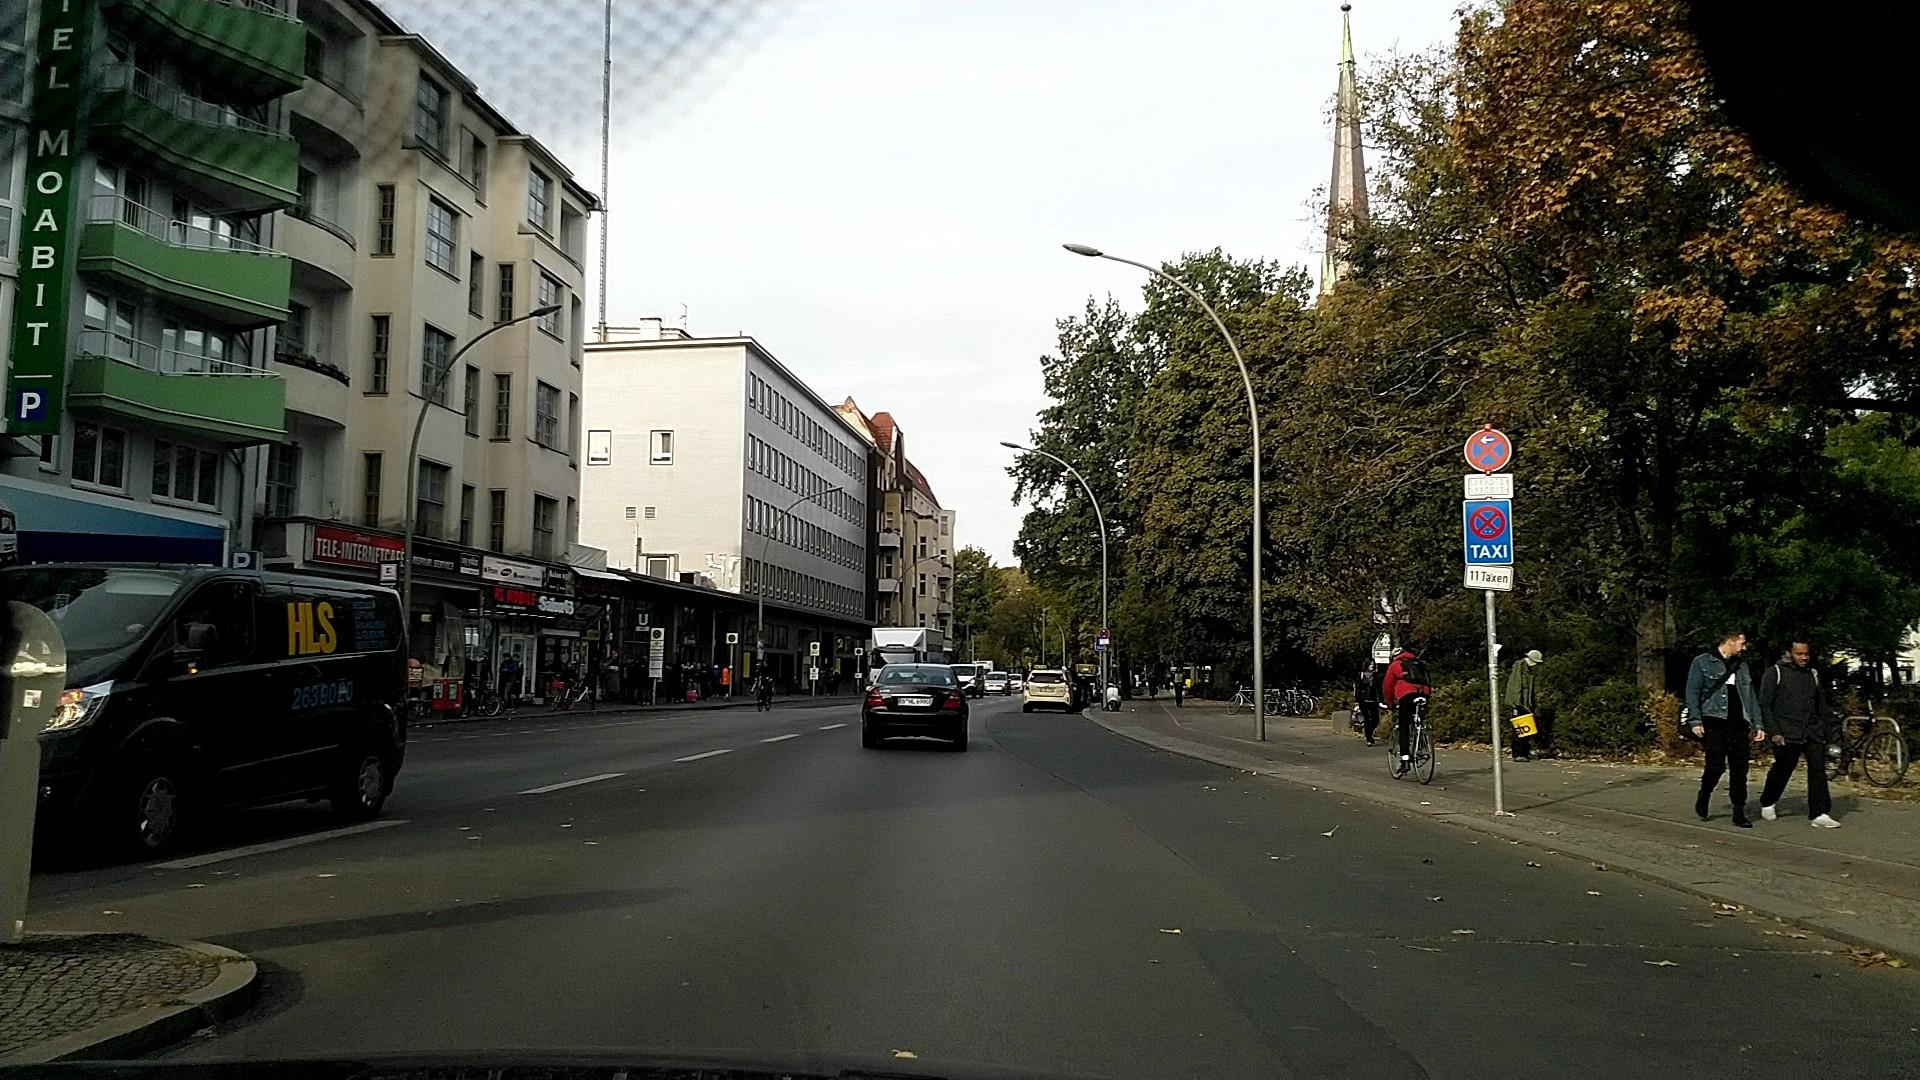Human face: (1788, 638, 1811, 668), (1725, 632, 1746, 658), (1366, 659, 1375, 671)
Vehicle registration plate: (897, 697, 933, 707)
